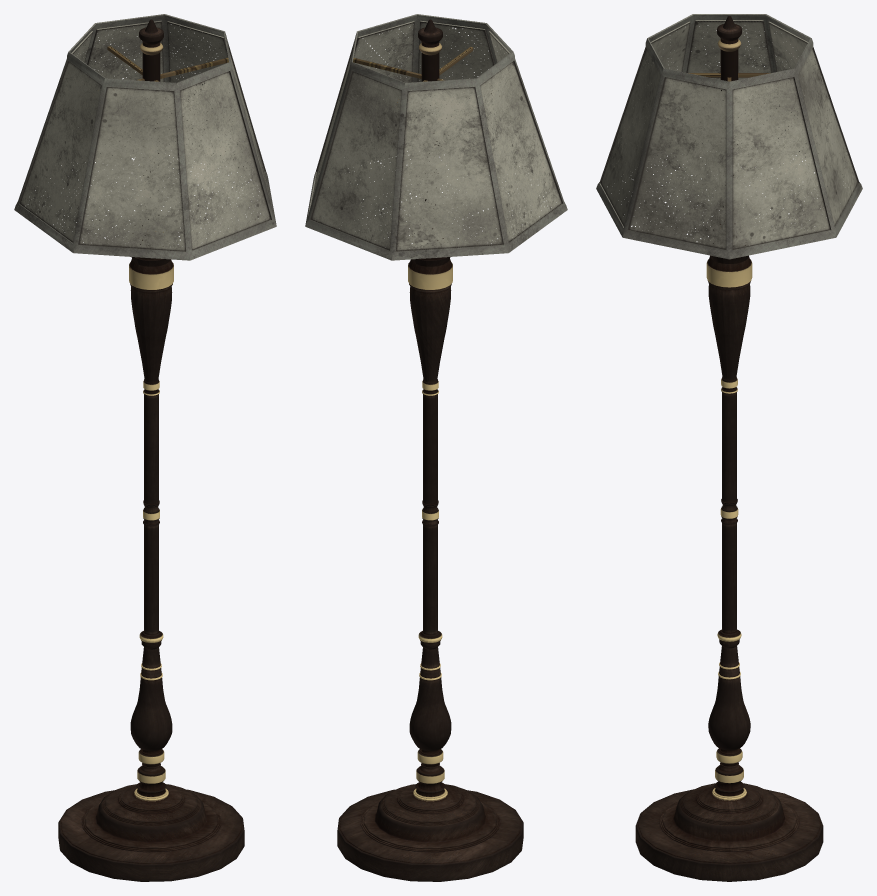
Rendered from LampSpotlight.obj.
The picture shows the model from 3 angles, left to right: view 1: azimuth 30°, elevation 25°; view 2: azimuth 150°, elevation 25°; view 3: azimuth 270°, elevation 25°; orthographic projection.
Parts seen in each view (by area): view 1: Alfelo_Lamp; view 2: Alfelo_Lamp; view 3: Alfelo_Lamp.
Boxes of the visible parts, x1=… form: Alfelo_Lamp: x1=14, y1=14, x2=276, y2=881; Alfelo_Lamp: x1=305, y1=14, x2=567, y2=881; Alfelo_Lamp: x1=596, y1=14, x2=862, y2=881.
Size of the model in its own units: 0.2614 by 0.9169 by 0.2682.
